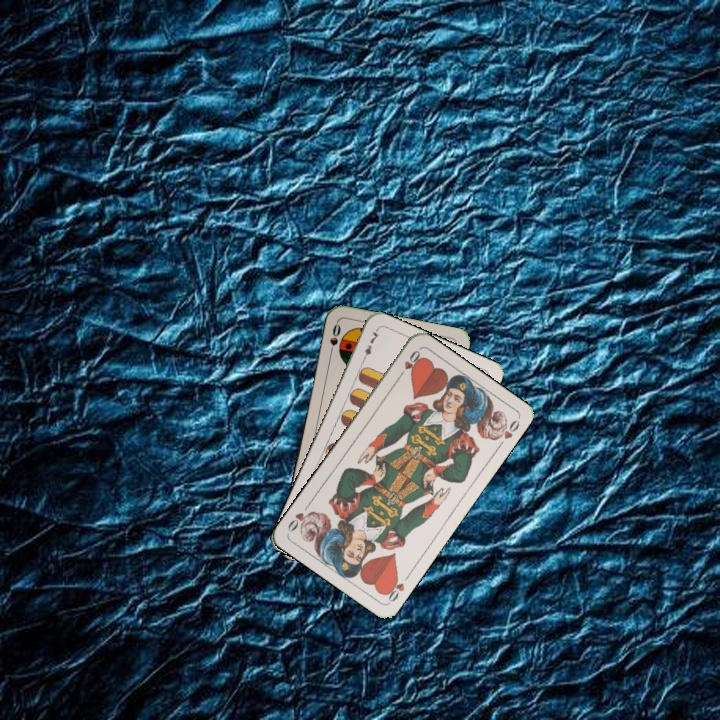E7: (358, 326, 382, 364)
HO: (380, 569, 413, 605), (394, 346, 423, 381)
SO: (326, 319, 343, 359)
